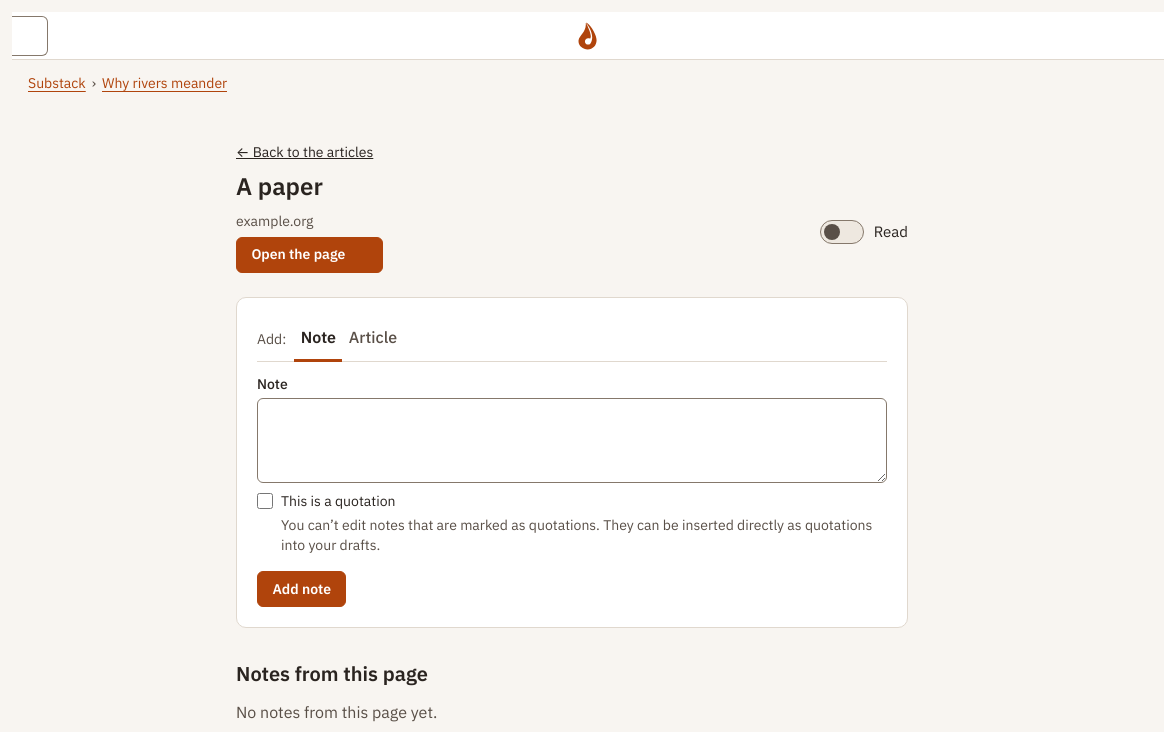
it: reading page › takes away “Added …” under the reading form once the next address is started
Click the tab with aria-label "Add article".
click(373, 340)  # box [342,318,404,362]
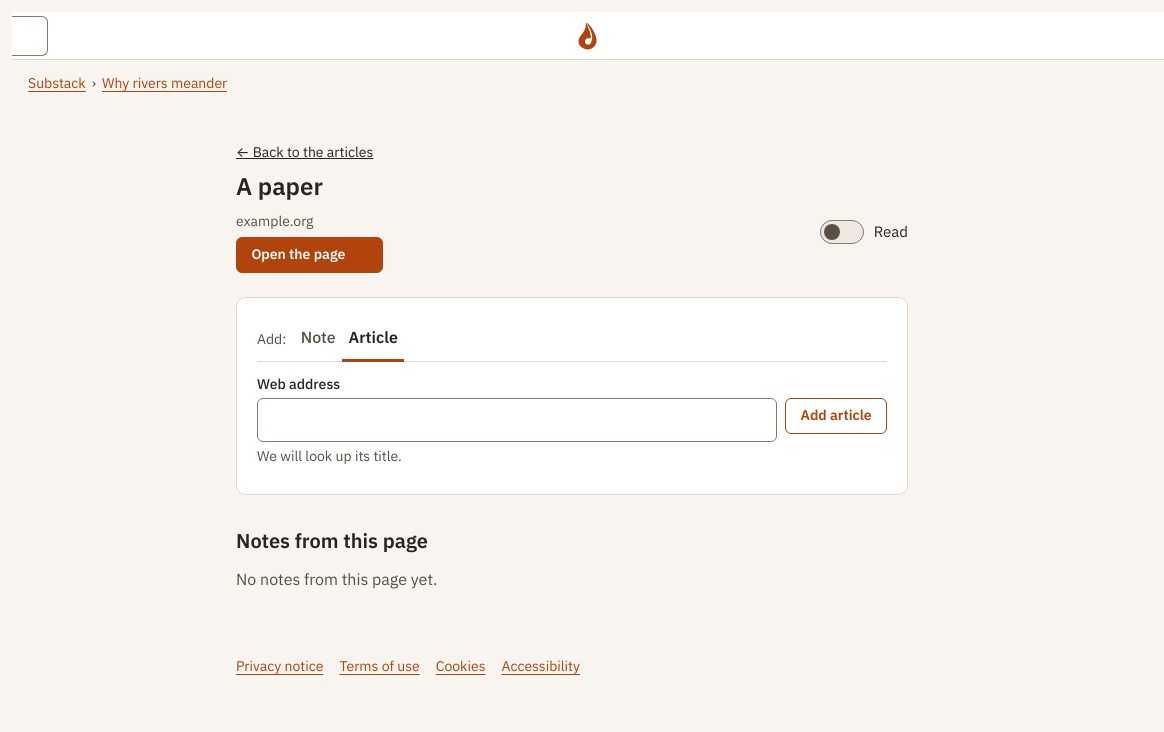
Type "https://example.org/new" into the field labelled "Web address".
click(517, 420); type("https://example.org/new")  # box [257,398,777,442]
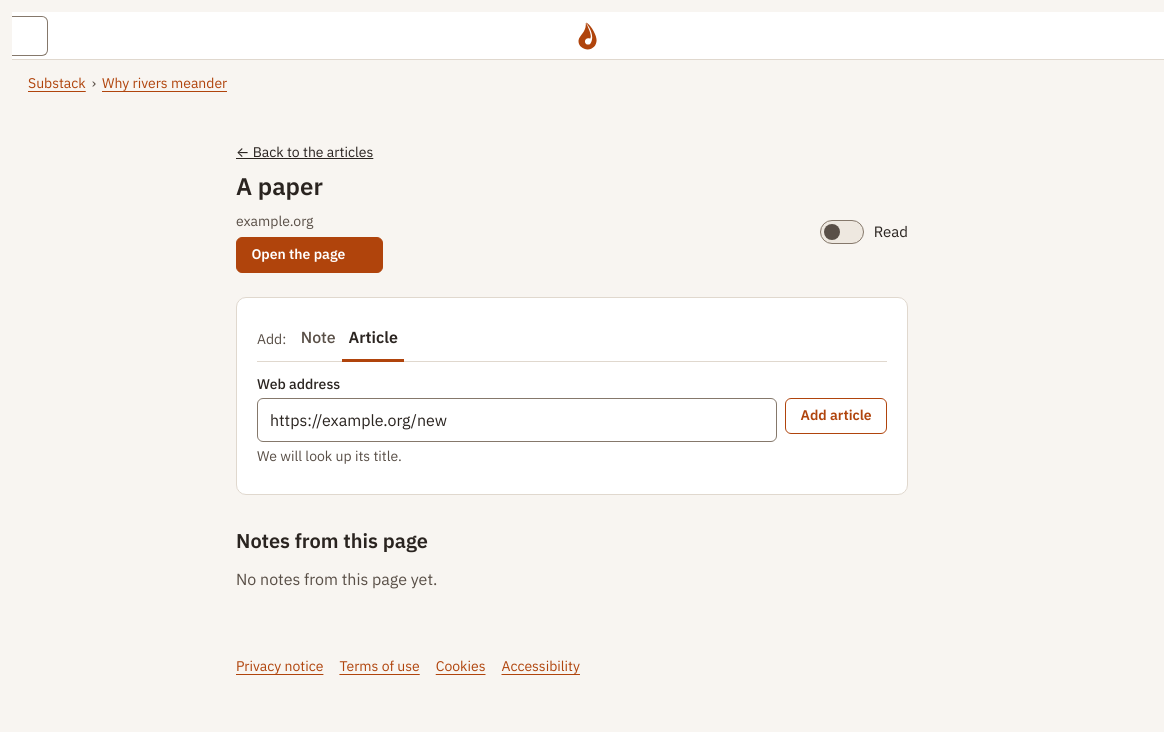
Click the button "Add article".
click(836, 416)  # box [785,398,887,434]
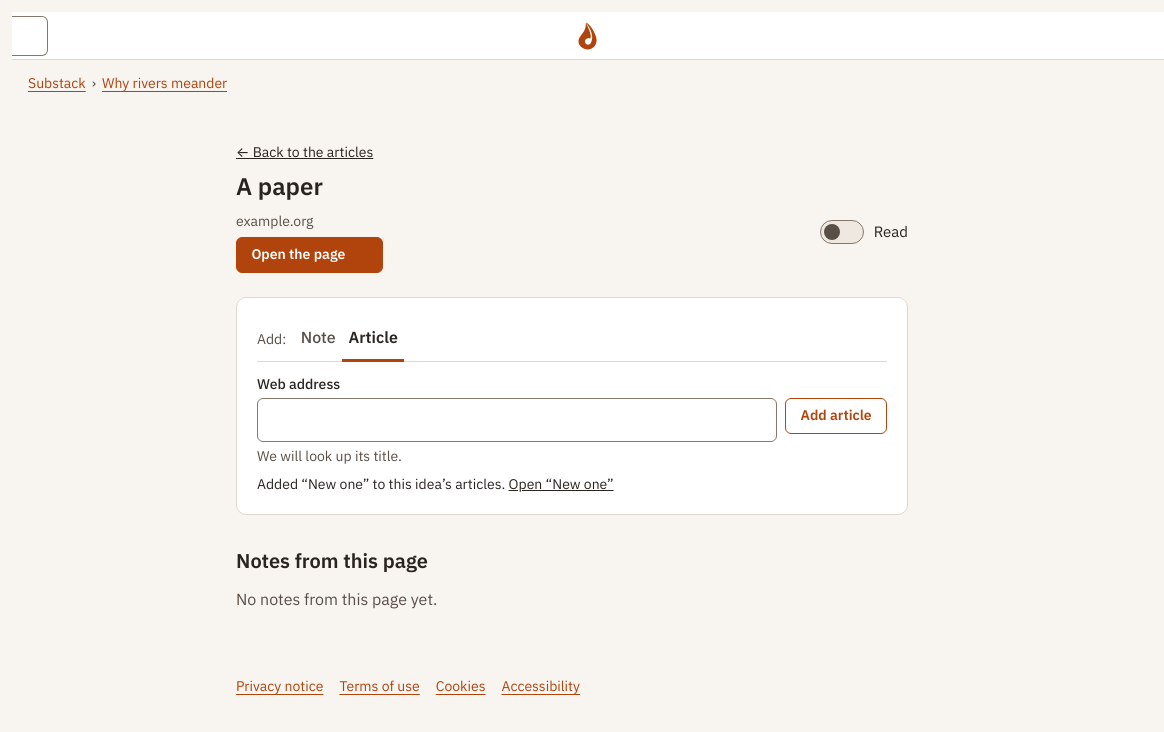
expect the text "Added “New one” to this idea’s articles. Open “New one”" is shown: met, box [257,475,614,493]
Type "h" into the field labelled "Web address".
click(517, 420); type("h")  # box [257,398,777,442]
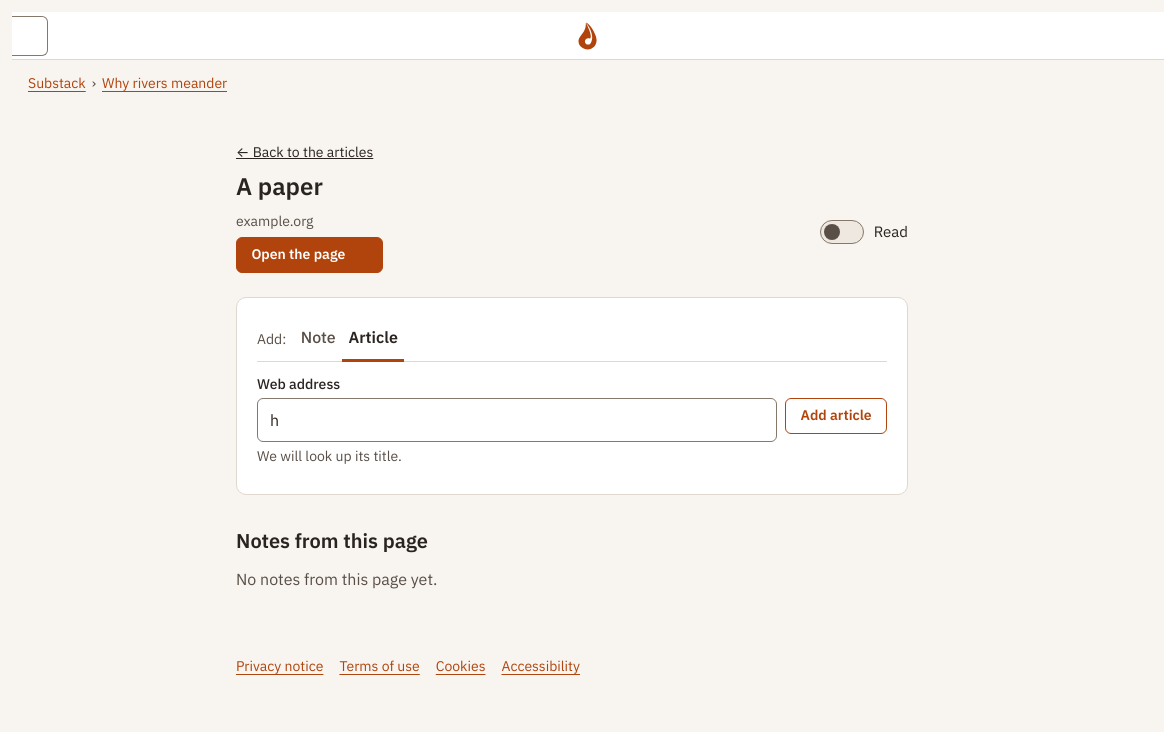
expect the text "Added “New one”" is gone: met
